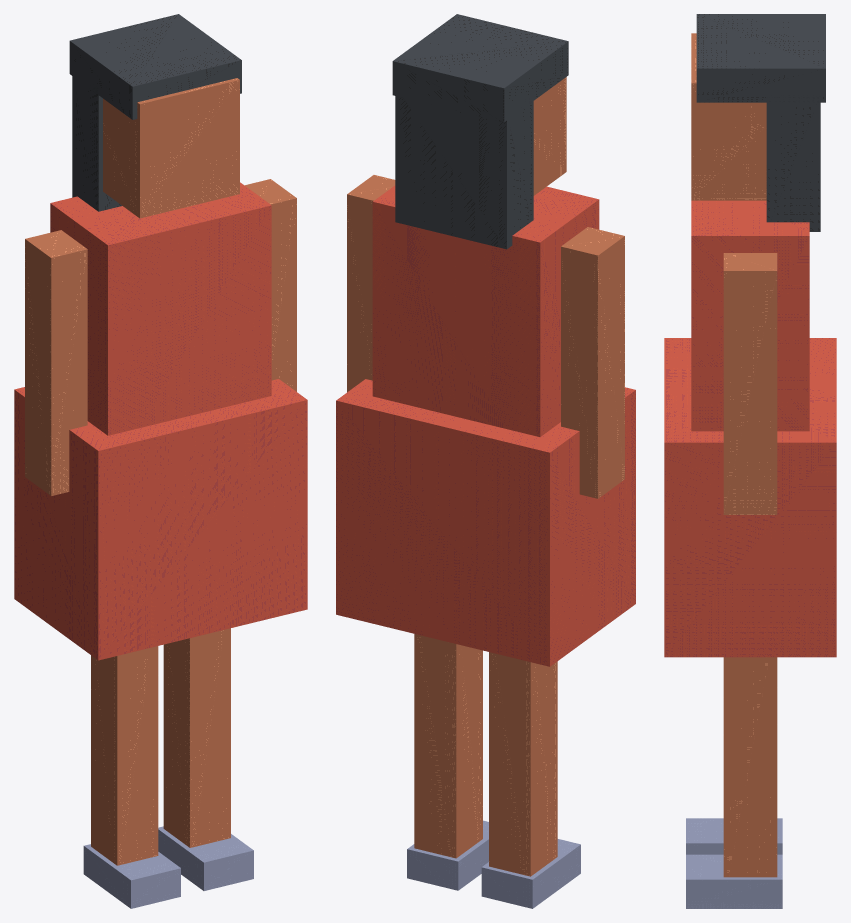
Rendered from person-b.glb.
The picture shows the model from 3 angles, left to right: view 1: azimuth 30°, elevation 25°; view 2: azimuth 150°, elevation 25°; view 3: azimuth 270°, elevation 25°; orthographic projection. The views are drawn at different scales.
Visible parts, largest first — view 1: person-b; view 2: person-b; view 3: person-b.
Part boxes in pixels (box(x1,y1,x2,y2)): person-b: box(14, 14, 307, 908); person-b: box(336, 14, 635, 908); person-b: box(664, 14, 836, 908).
Size of the model in its own units: 0.54 by 1.72 by 0.32.
Materials: 1 (1 with a texture image).
